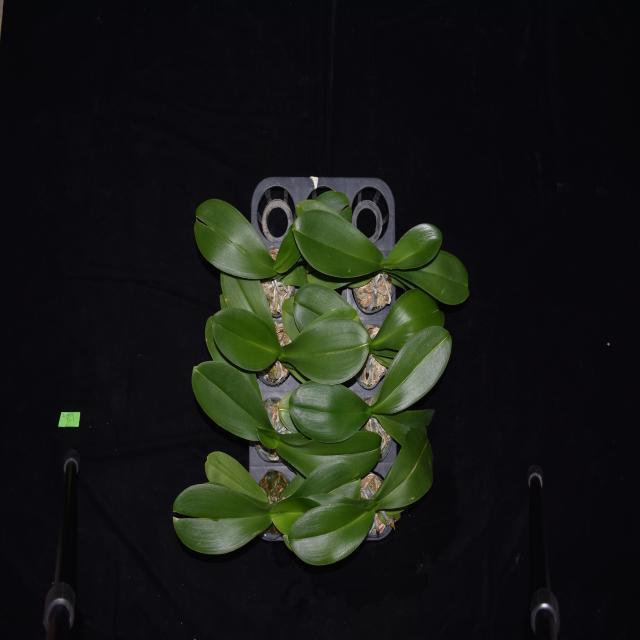leaf: (374, 327, 454, 421), (190, 357, 273, 444), (170, 479, 271, 550), (194, 201, 280, 278), (372, 280, 448, 358), (279, 322, 372, 384), (290, 502, 379, 564), (292, 215, 383, 275), (276, 429, 384, 478), (290, 380, 372, 444), (203, 313, 261, 397), (379, 420, 435, 506), (385, 248, 470, 304), (211, 307, 283, 370), (218, 264, 280, 332), (372, 392, 449, 442), (203, 452, 267, 510), (380, 223, 446, 273), (295, 274, 360, 324), (294, 462, 362, 504), (270, 222, 304, 278), (270, 497, 316, 532), (276, 293, 302, 336), (279, 468, 308, 506), (275, 387, 300, 430), (252, 424, 280, 450)
